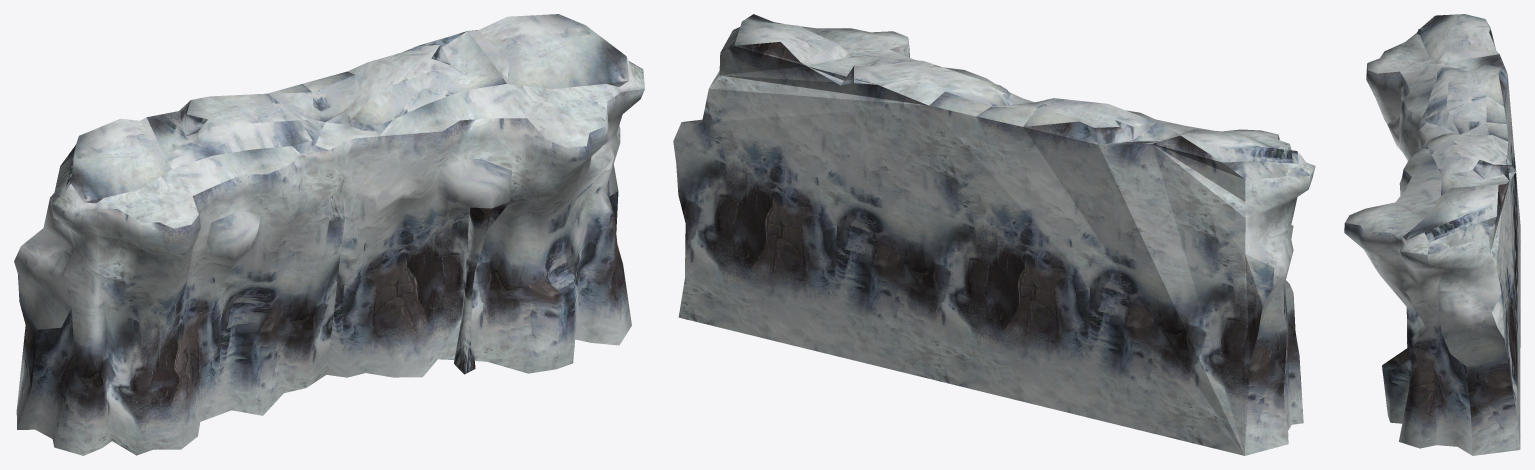
Rendered from S_Rock_White026.FBX.
3 renders of one model, left to right at view 1: azimuth 30°, elevation 25°; view 2: azimuth 150°, elevation 25°; view 3: azimuth 270°, elevation 25°, orthographic. The views are drawn at different scales.
Parts seen in each view (by area): view 1: S_Rock_White026; view 2: S_Rock_White026; view 3: S_Rock_White026.
Part boxes in pixels (x1=…): S_Rock_White026: x1=14, y1=14, x2=644, y2=455; S_Rock_White026: x1=673, y1=14, x2=1315, y2=455; S_Rock_White026: x1=1344, y1=14, x2=1520, y2=455.
Bounding box in the file's own units: 1886 × 592 × 887.
